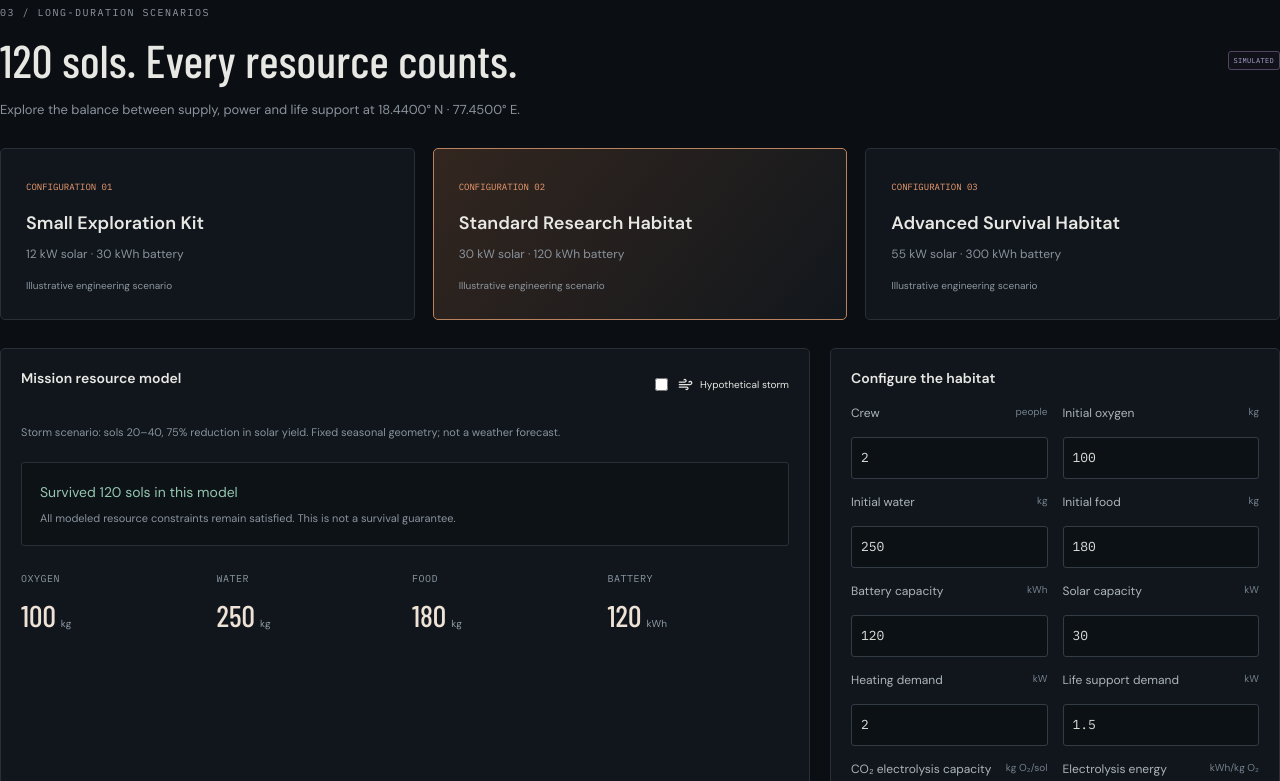
Test case: rejects fractional crew input without crashing the habitat
Replace the text in the number field labelled "Crew people" with "1.5": [949, 458] box [851, 437, 1048, 479]
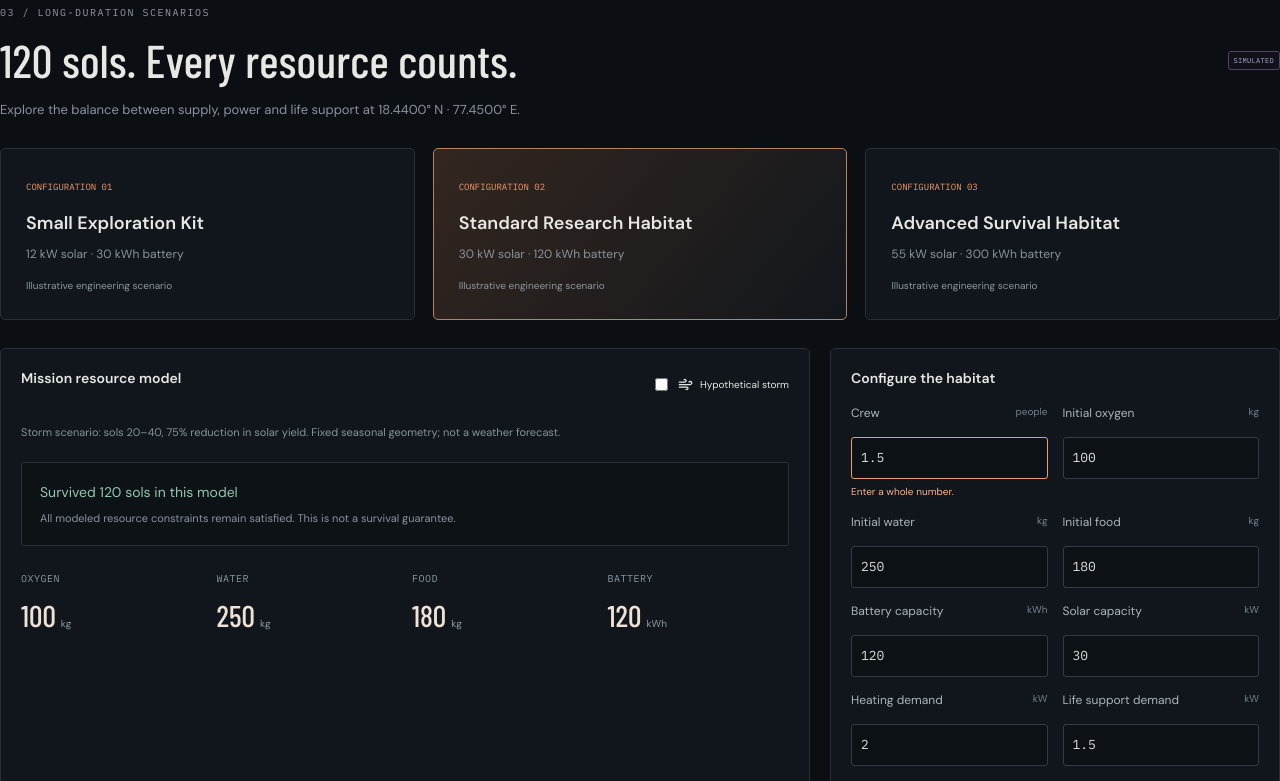
expect the heading "Mission resource model" is shown: met, box [21, 369, 181, 387]
expect the message shows "whole number": met, box [851, 485, 954, 498]
